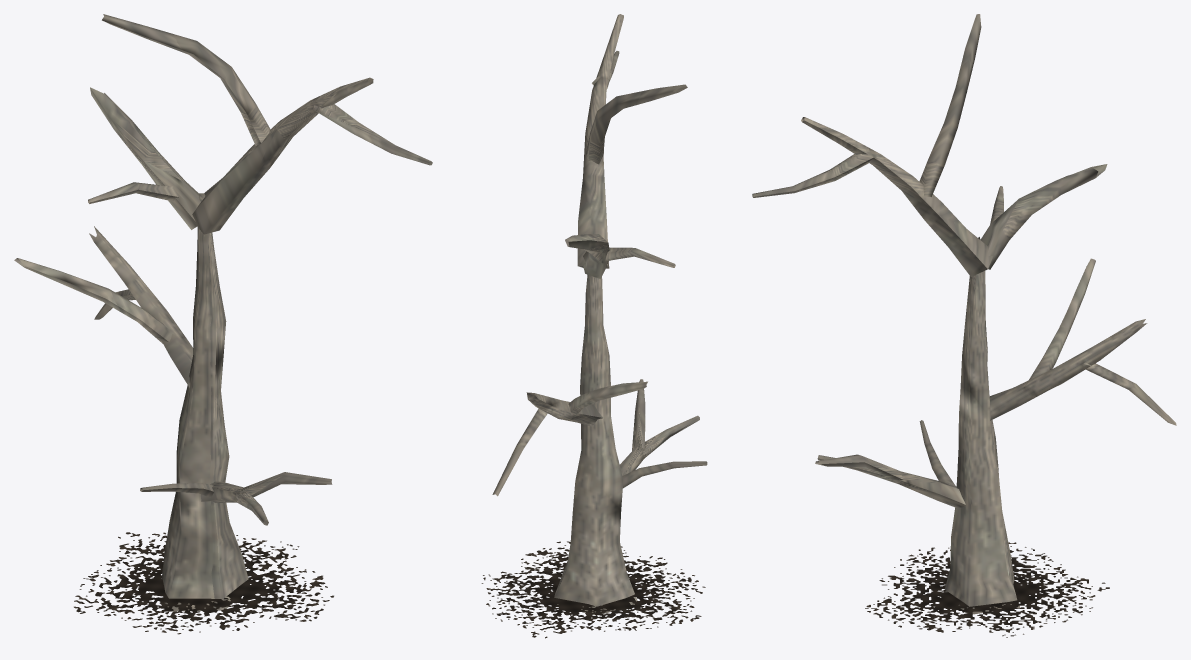
File: sapling_dead_03.glb
3 views of the same model, side by side, from view 1: azimuth 30°, elevation 25°; view 2: azimuth 150°, elevation 25°; view 3: azimuth 270°, elevation 25° (orthographic). The views are drawn at different scales.
Parts seen in each view (by area): view 1: sapling_dead_03; view 2: sapling_dead_03; view 3: sapling_dead_03.
Boxes of the visible parts, x1=… form: sapling_dead_03: x1=14, y1=14, x2=432, y2=634; sapling_dead_03: x1=481, y1=14, x2=707, y2=638; sapling_dead_03: x1=752, y1=14, x2=1176, y2=637.
Bounding box in the file's own units: 0.468 × 1.05 × 0.7468.
2 materials, 2 textured.
